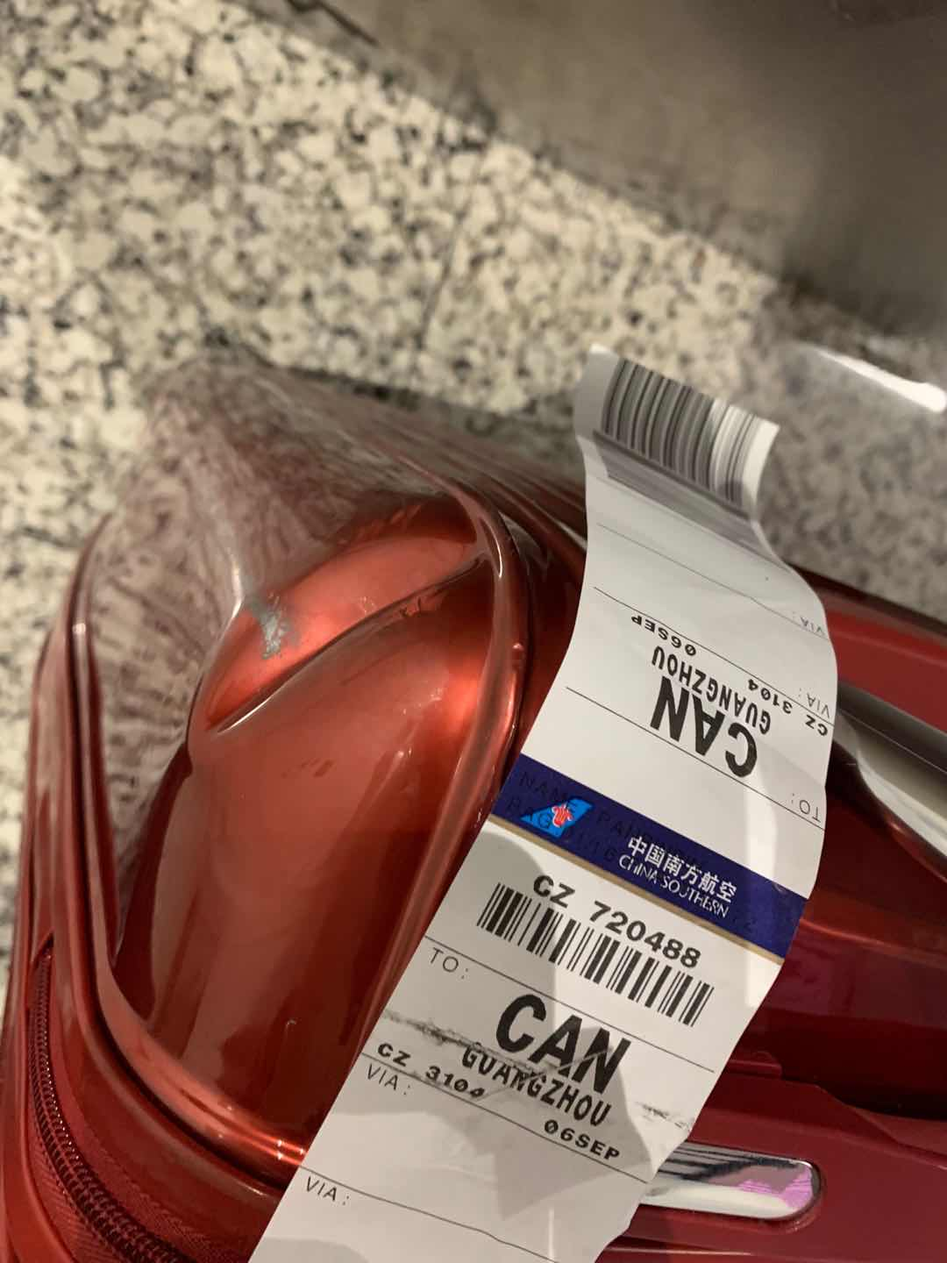rupture: (182, 526, 496, 781)
